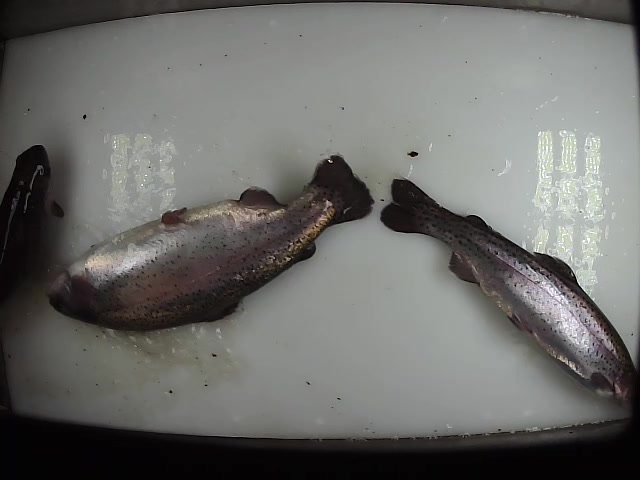fish: (377, 176, 640, 411), (46, 152, 376, 333), (1, 143, 65, 306)
